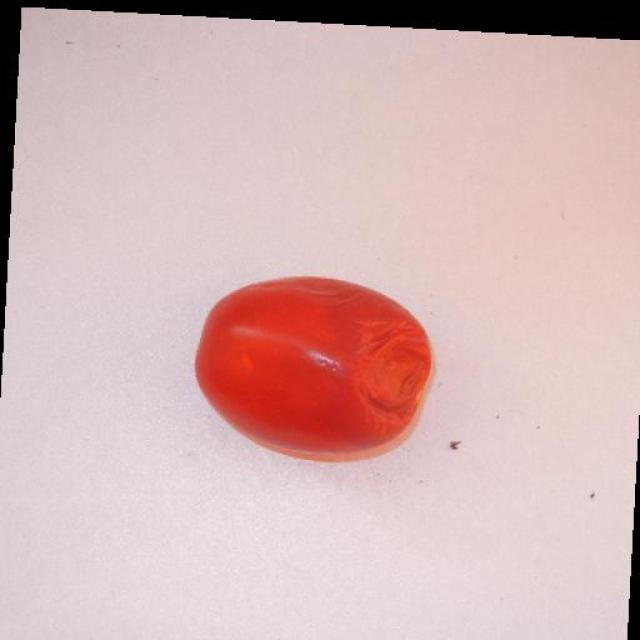Stale_tomato: (336, 315, 442, 434)
